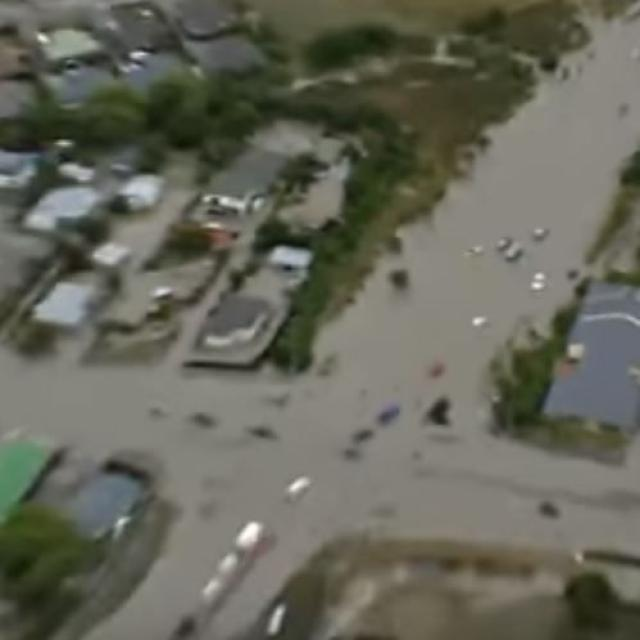flooded_areas: (63, 1, 576, 639)
